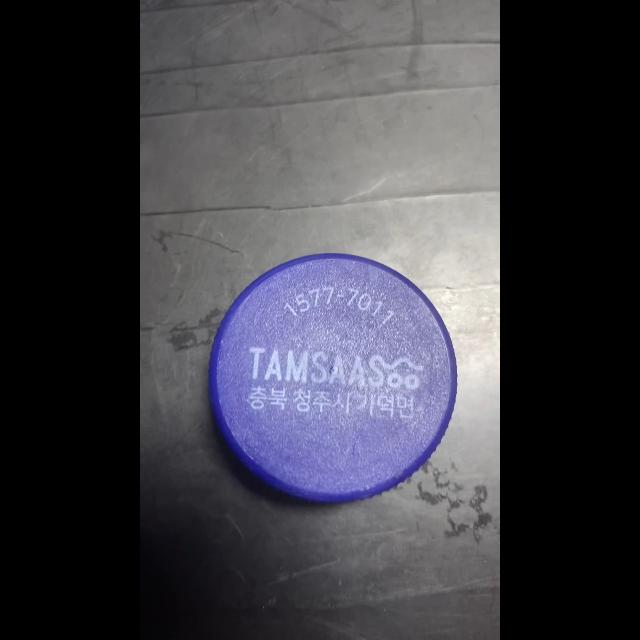plastic_bottle_cap: (202, 239, 464, 511)
